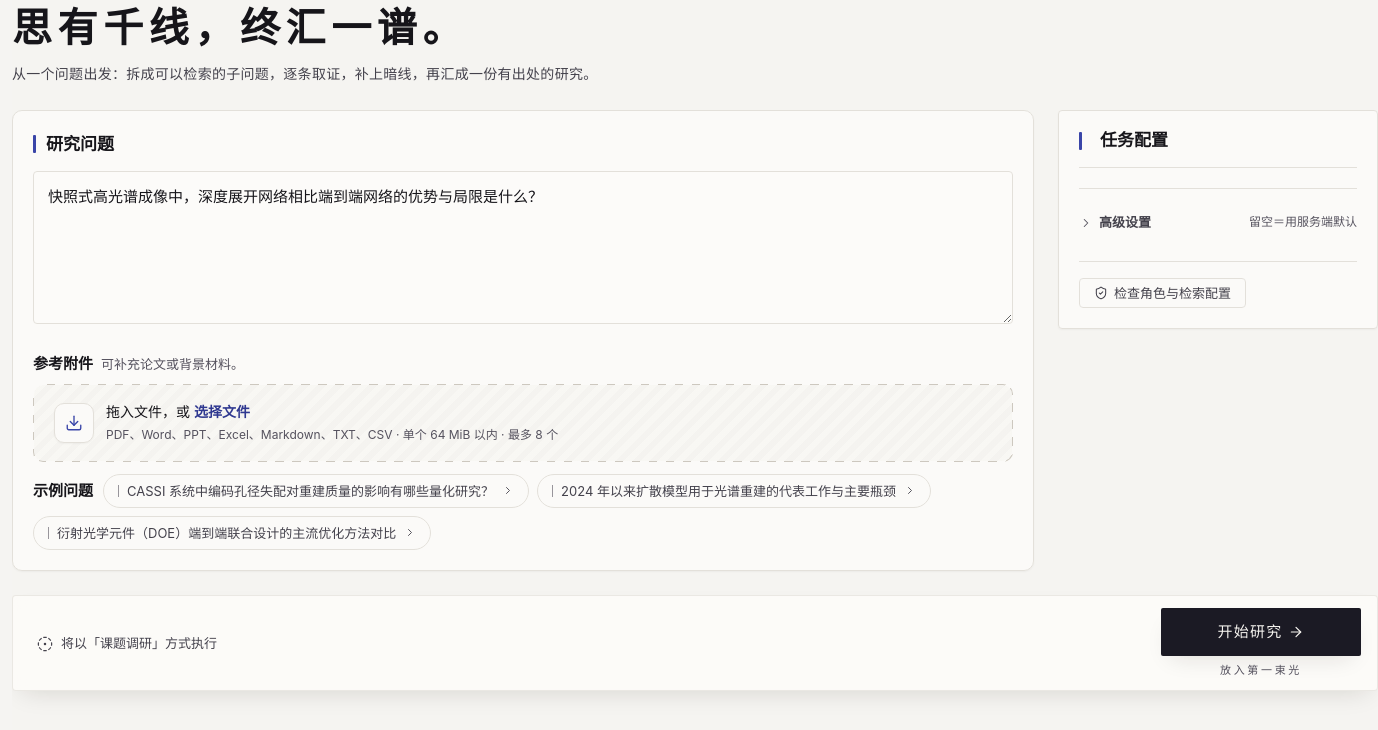
Test: NewResearchPage 澄清循环 › 追问期间「开始研究」按钮不可用，避免绕开循环重复提交
Replace the text in the text box labelled "研究问题" with "帮我看看": (523, 247) [33, 171, 1013, 324]
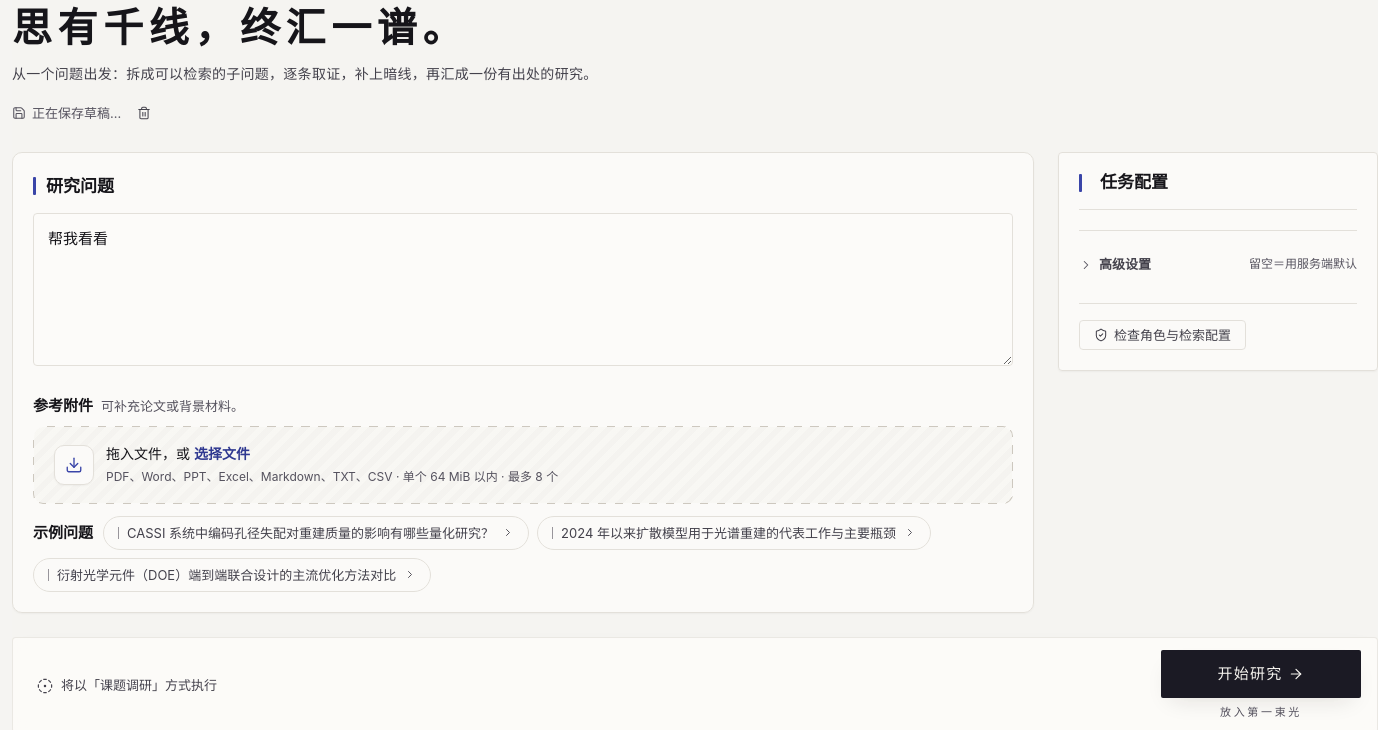
Click the button "开始研究": (1261, 674) [1161, 650, 1361, 698]
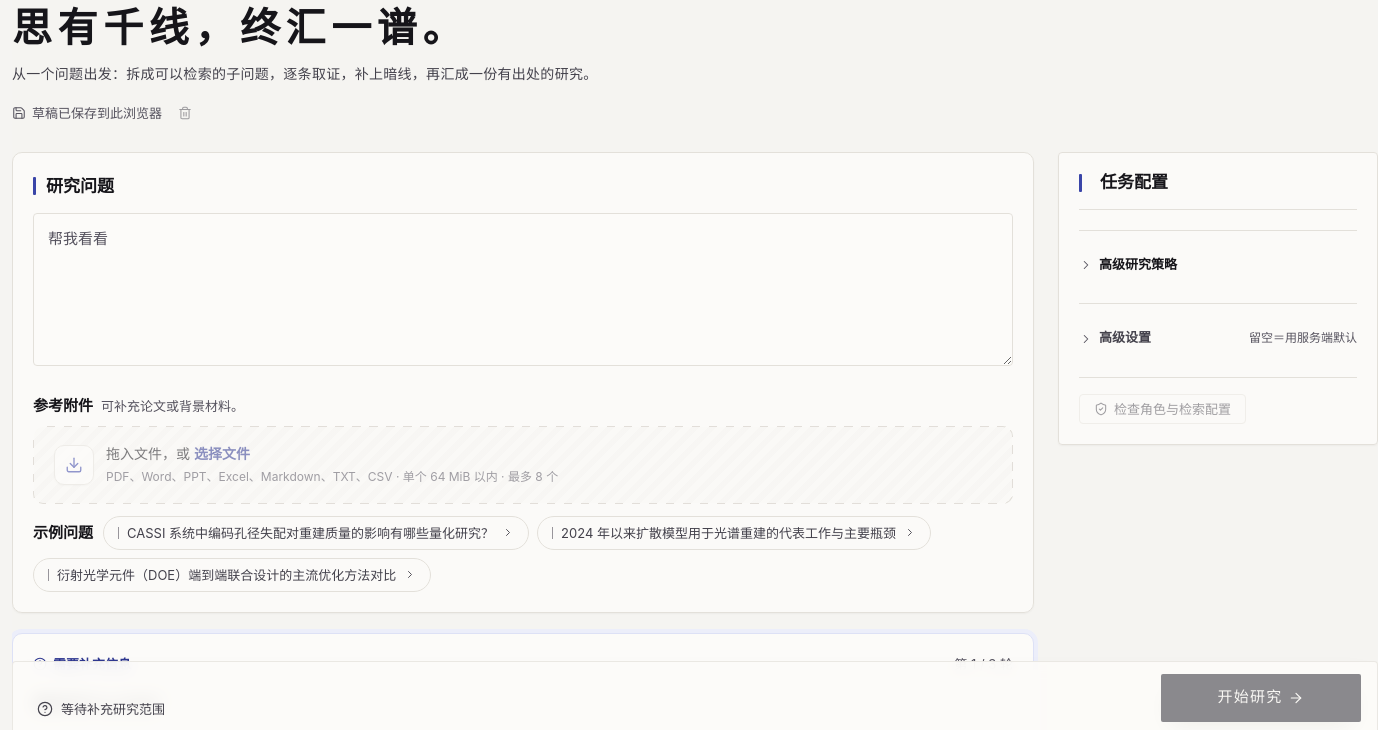
Now the text "想研究什么方向？" is shown, box [33, 694, 169, 714]
Now the button "开始研究" is disabled, box [1161, 673, 1361, 721]
